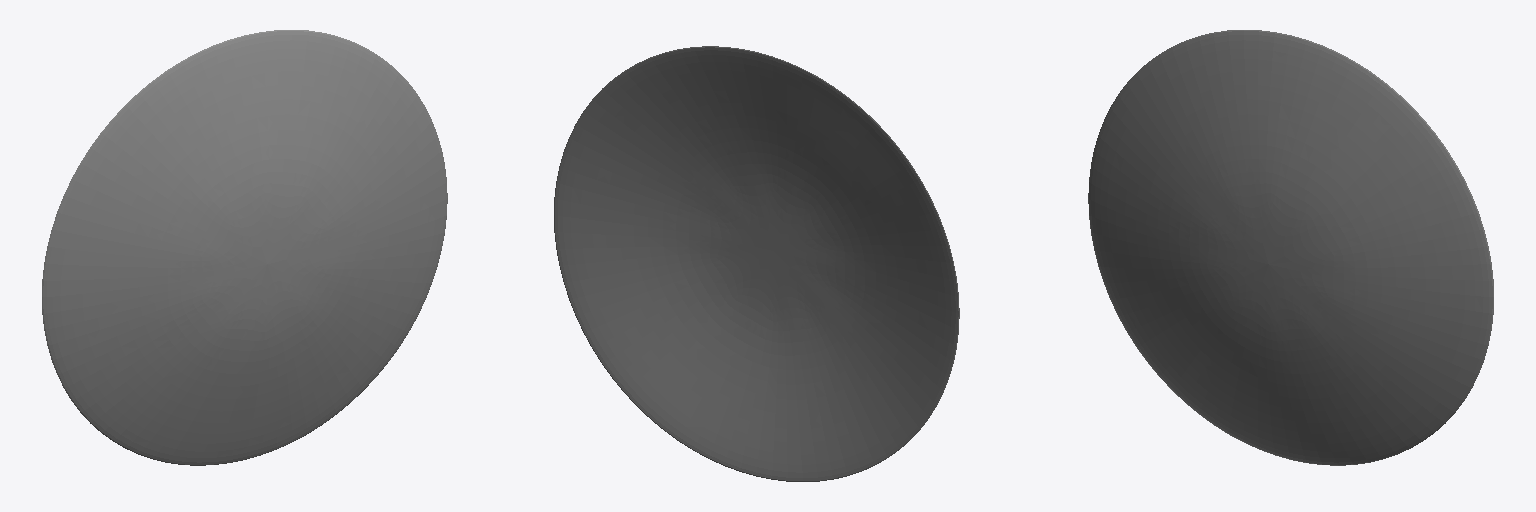
File: shield.obj
The picture shows the model from 3 angles: view 1: azimuth 30°, elevation 25°; view 2: azimuth 150°, elevation 25°; view 3: azimuth 330°, elevation 25°; orthographic projection.
Visible parts, largest first — view 1: Shield; view 2: Shield; view 3: Shield.
Part boxes in pixels (bbox=[...]): Shield: bbox=[42, 30, 447, 465]; Shield: bbox=[554, 46, 959, 481]; Shield: bbox=[1088, 30, 1493, 465].
Bounding box in the file's own units: 18.31 × 18.3 × 1.79.